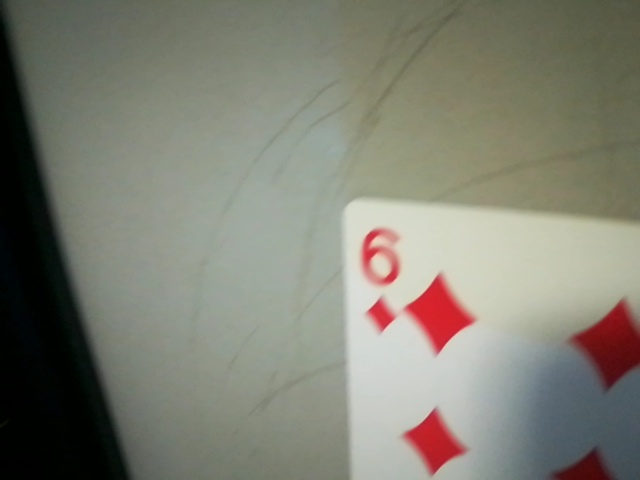fk 6: (346, 218, 411, 343)
